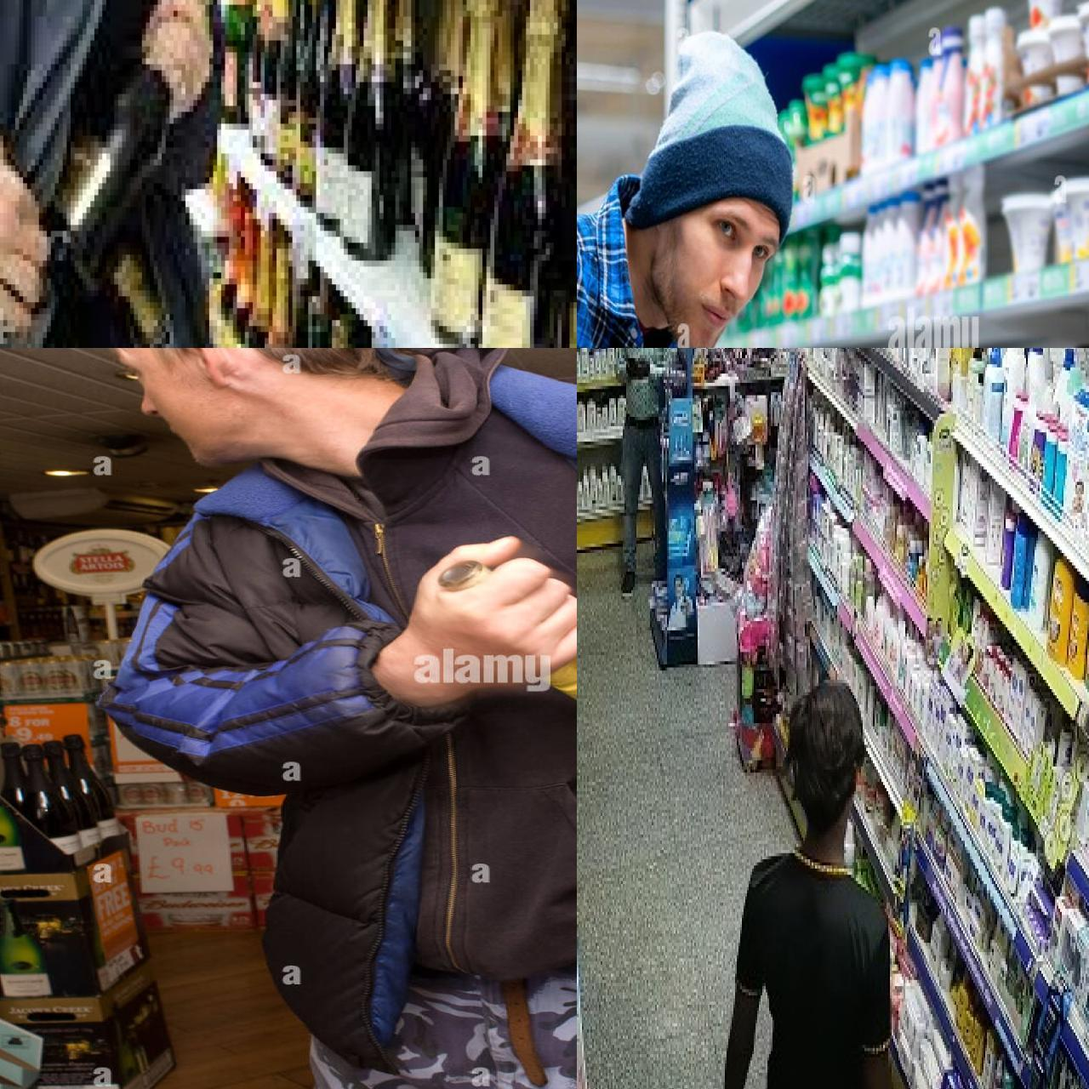shoplifting: (0, 0, 512, 346)
